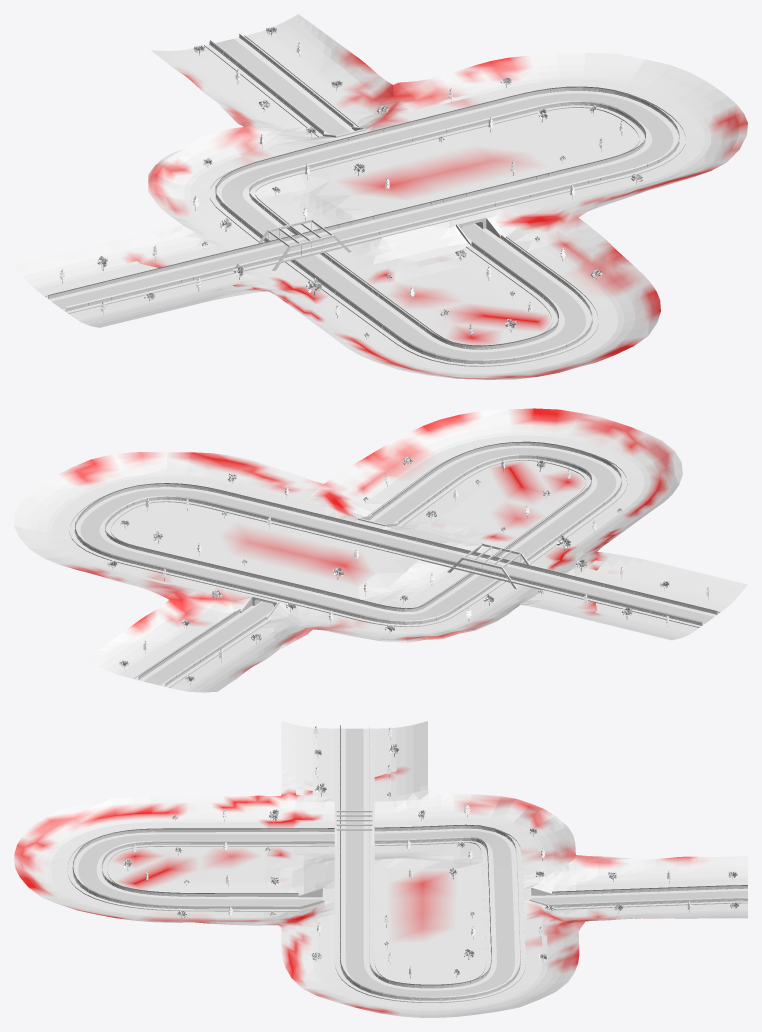
The picture shows the model from 3 angles, top to bottom: view 1: azimuth 30°, elevation 25°; view 2: azimuth 150°, elevation 25°; view 3: azimuth 270°, elevation 25°; orthographic projection. The views are drawn at different scales.
Visible parts, largest first — view 1: Grass, Road, Track, Wirefence, Trees; view 2: Grass, Road, Track, Wirefence, Trees; view 3: Grass, Road, Track, Wirefence, Trees.
Part boxes in pixels (x1,y1,x2,y2): Grass: (14,14,747,379); Road: (52,39,673,359); Track: (45,35,685,366); Wirefence: (48,33,679,363); Trees: (59,26,643,339); Grass: (14,408,747,692); Road: (80,448,713,685); Track: (69,442,720,687); Wirefence: (75,441,717,685); Trees: (107,456,710,684); Grass: (14,721,747,1017); Road: (78,728,747,996); Track: (67,728,747,1002); Wirefence: (72,725,747,999); Trees: (123,726,738,978).
Size of what is drawn, in the model's own units: 66976 by 2484 by 69984.
